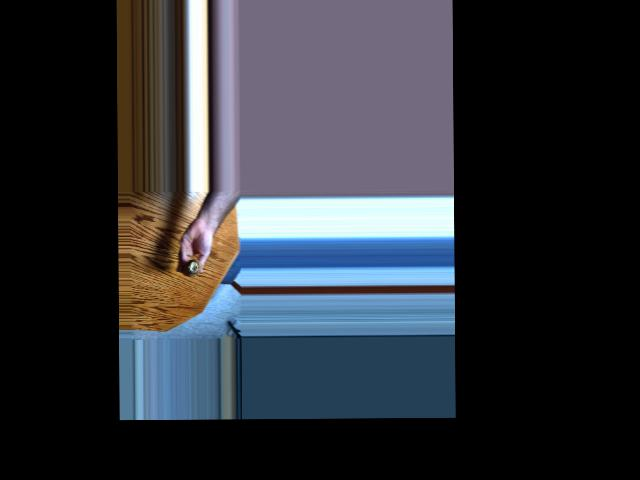sweet_potato: (186, 260, 202, 279)
